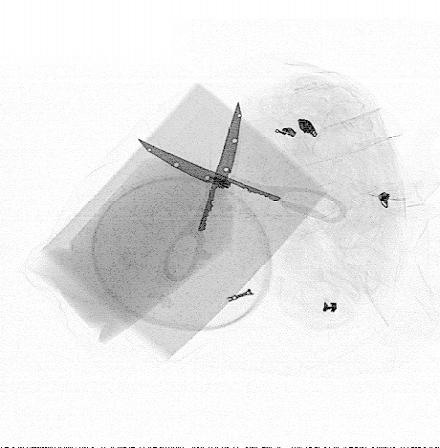Scissors: (136, 99, 348, 283)
